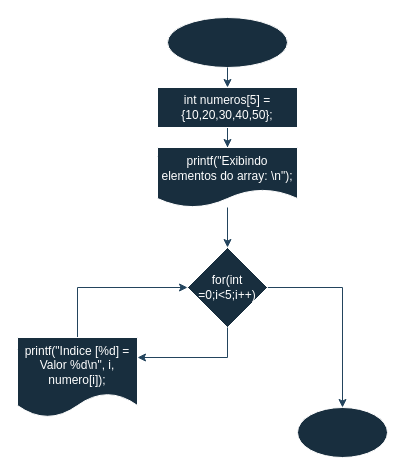
This 405x475 diagram has some shape labels left out. Here are the shapes that lost their labels. From the top down, the centre of each, then its label:
(x=227, y=42): inicio
(x=342, y=432): fim
